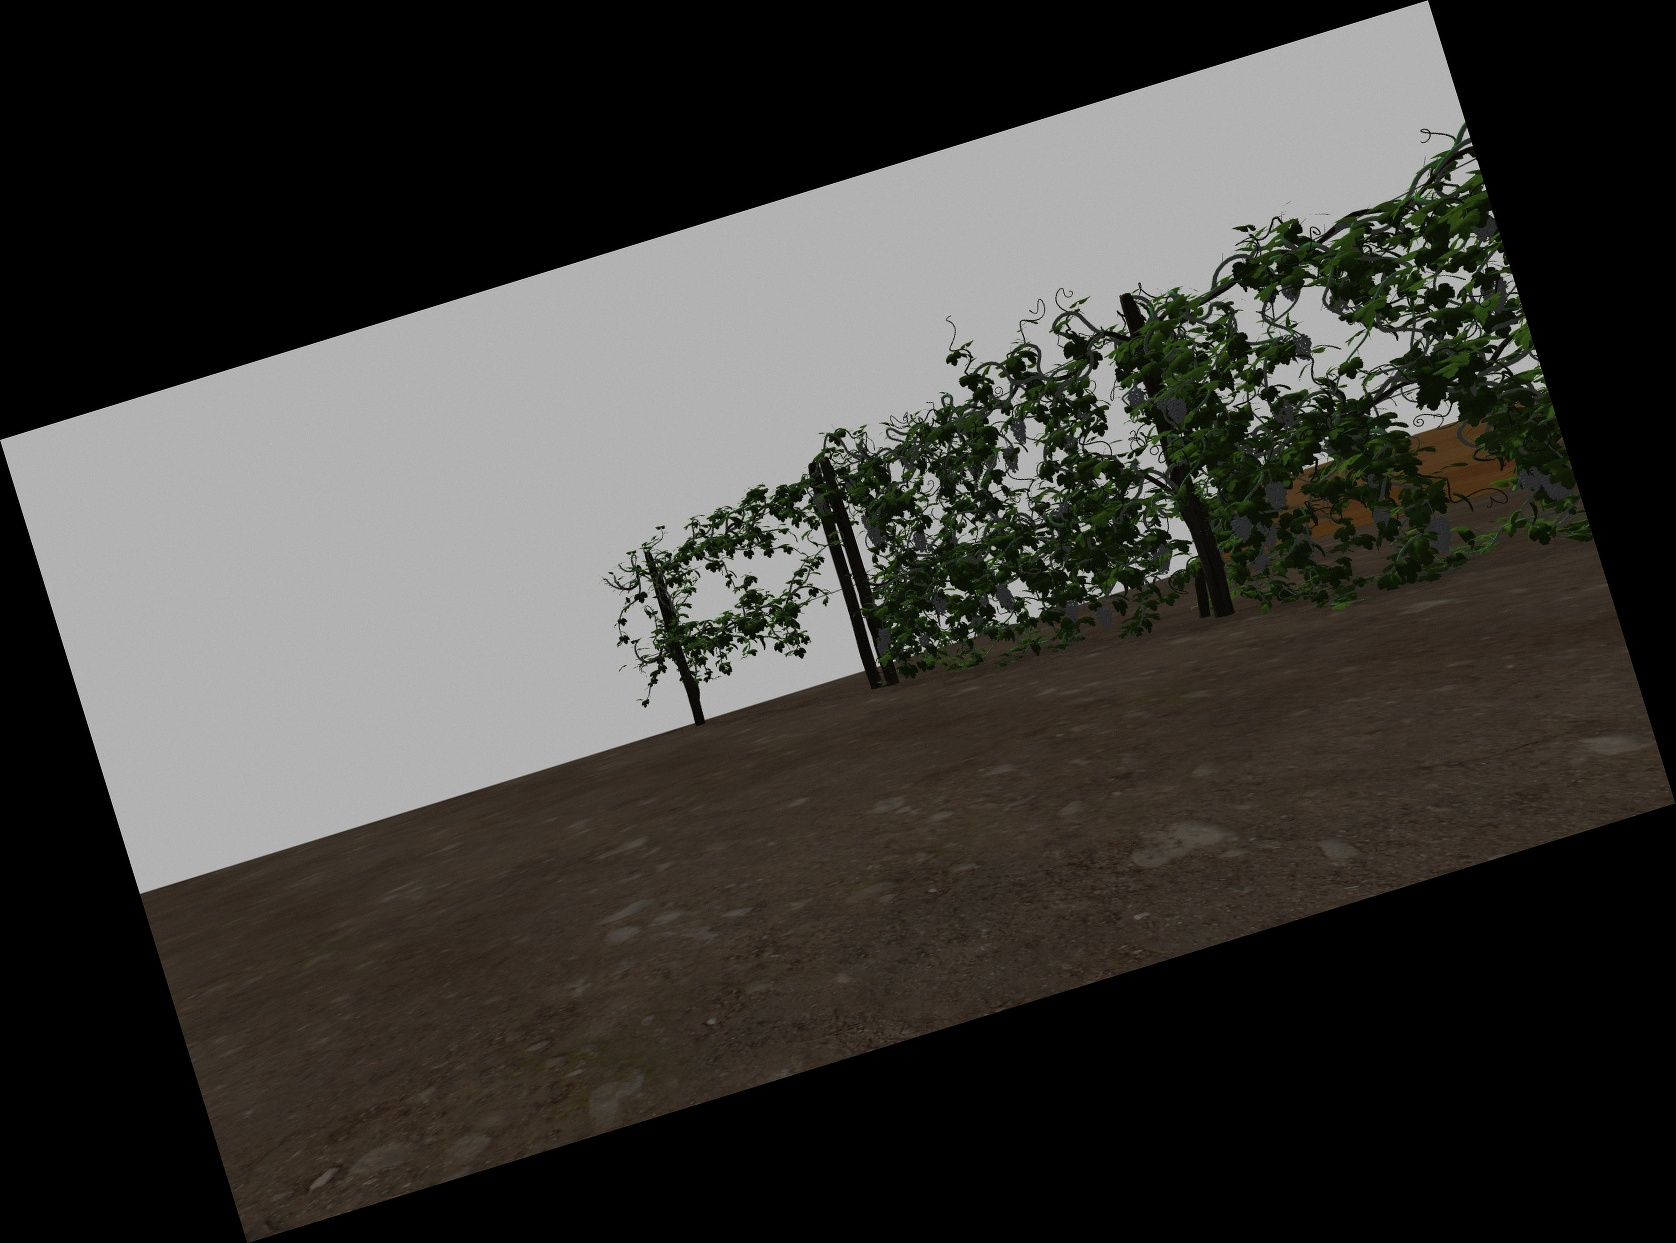grape: (1427, 516, 1454, 552), (1484, 279, 1512, 315), (1540, 470, 1566, 504), (1271, 400, 1297, 430), (1265, 480, 1290, 512), (1519, 464, 1542, 494), (1258, 518, 1279, 550), (864, 514, 884, 546), (1232, 513, 1252, 543), (1294, 333, 1314, 360), (1474, 215, 1495, 242), (1010, 417, 1029, 445), (1372, 501, 1391, 527), (996, 584, 1014, 611), (1168, 397, 1185, 426), (1128, 386, 1146, 413), (1096, 606, 1115, 631), (1004, 447, 1019, 473), (1064, 599, 1081, 623), (912, 530, 928, 554), (815, 494, 829, 518), (933, 594, 949, 615), (877, 638, 890, 658), (878, 627, 892, 642), (918, 635, 932, 648)
